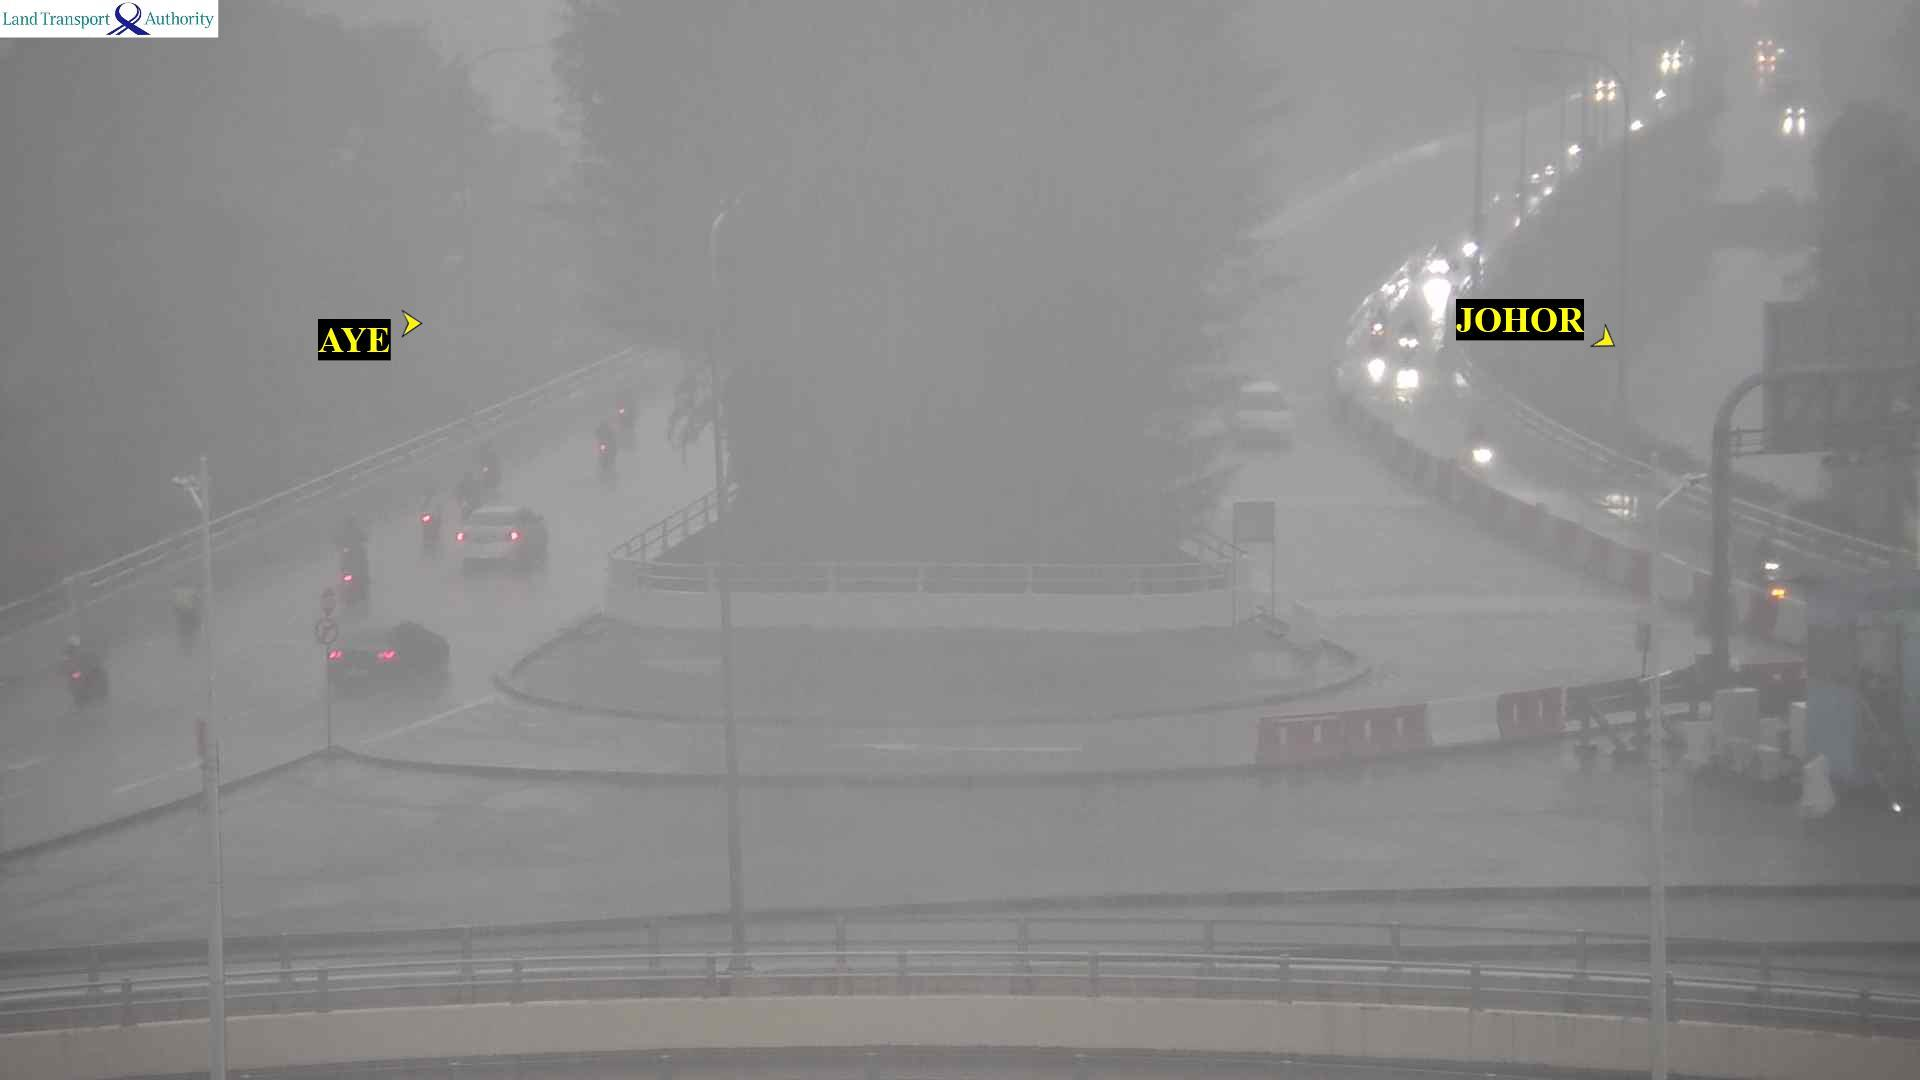vehicle-secondlink-johor: (1230, 376, 1294, 443), (1745, 533, 1780, 583), (1461, 422, 1494, 473), (1423, 243, 1456, 291), (1395, 322, 1420, 369), (1593, 78, 1621, 105), (1369, 311, 1386, 351)
vehicle-secondlink-singapore: (331, 616, 451, 683), (460, 504, 550, 567), (61, 632, 109, 703), (334, 521, 372, 607), (414, 477, 439, 546), (472, 438, 502, 491), (615, 398, 644, 443), (592, 414, 612, 475)
